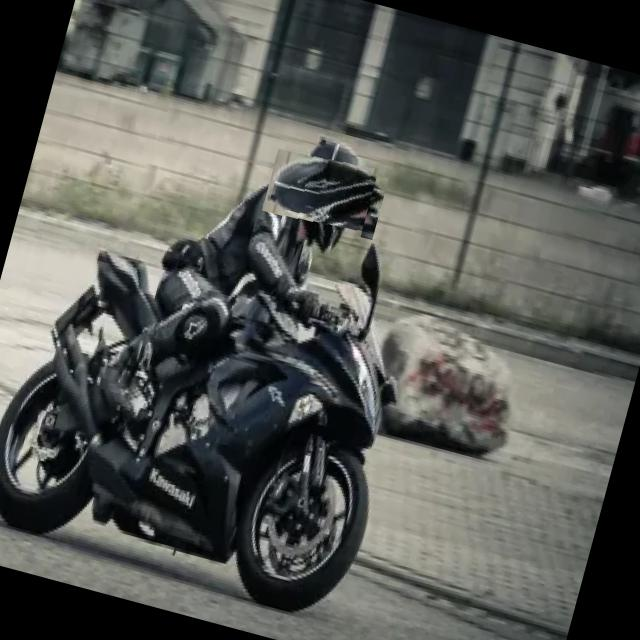Helmet: (270, 139, 380, 249)
